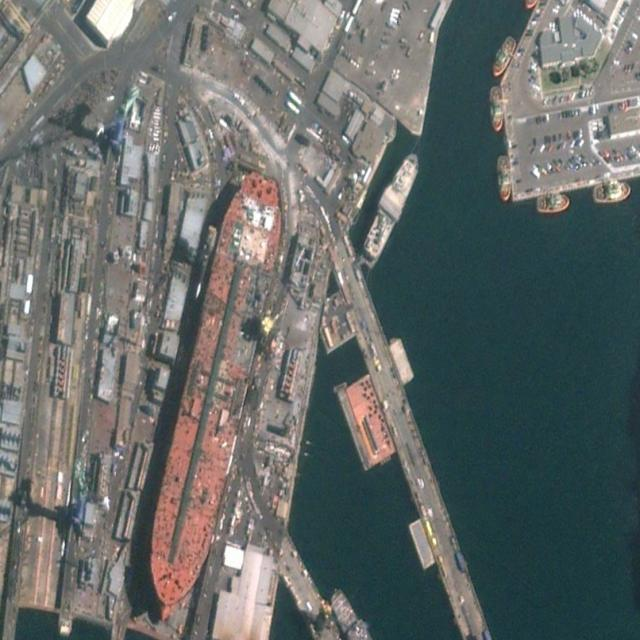Cargo: (137, 163, 291, 617)
Hovercraft: (488, 31, 519, 80), (589, 178, 632, 205), (496, 153, 513, 202), (489, 84, 504, 132), (535, 192, 569, 213)
Other Ship: (356, 145, 423, 274)
